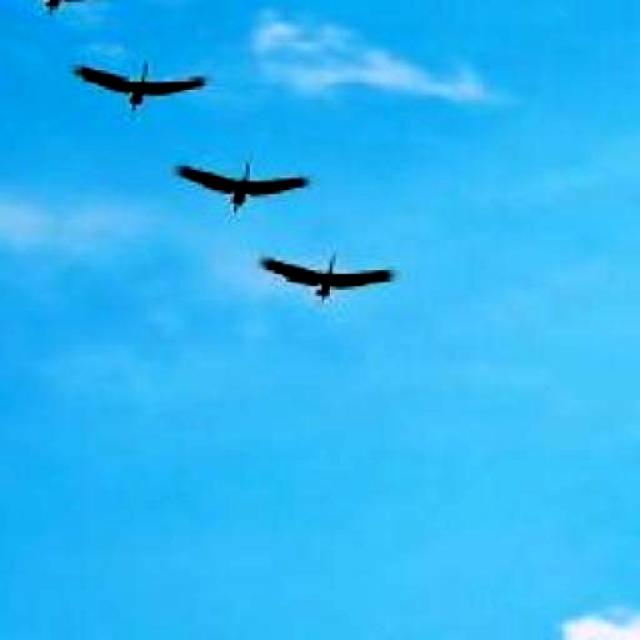airplane: (70, 58, 216, 115), (176, 158, 314, 215), (259, 252, 398, 304), (0, 0, 129, 18)
